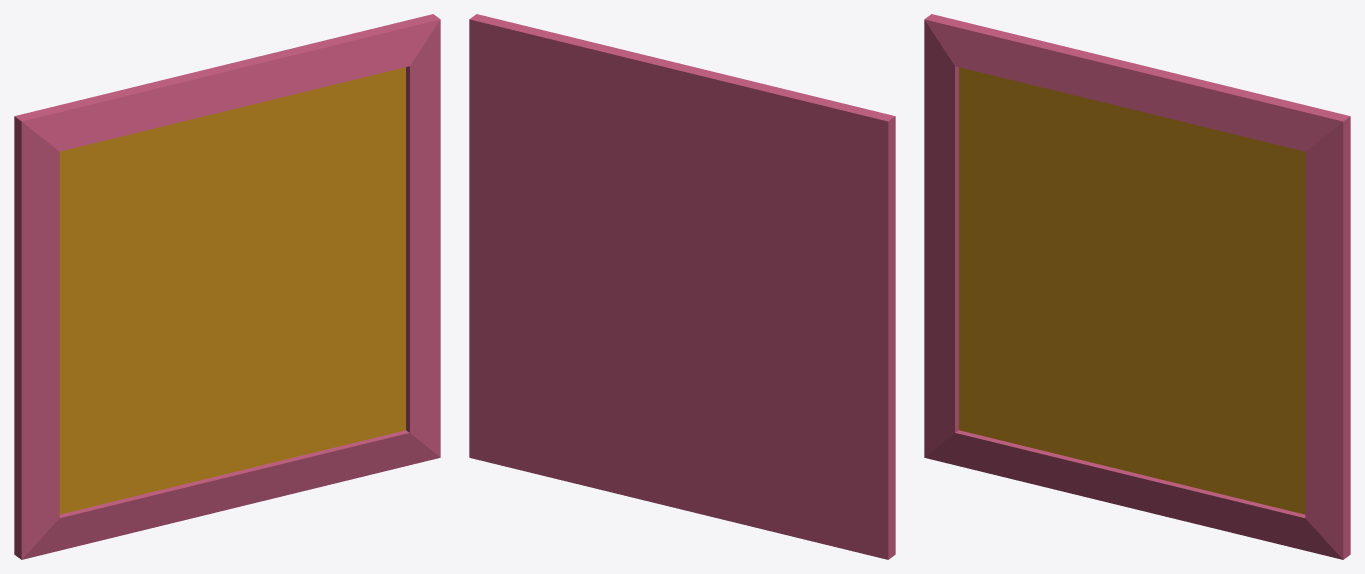
The model's file is Wall_Picture_Frame_glassless.fbx.
3 renders of one model, left to right at view 1: azimuth 30°, elevation 25°; view 2: azimuth 150°, elevation 25°; view 3: azimuth 330°, elevation 25°, orthographic.
Parts seen in each view (by area): view 1: picture, Frame; view 2: Frame; view 3: picture, Frame.
Part boxes in pixels (x1,y1,x2,y2): picture: (59,67,405,514); Frame: (14,14,440,559); Frame: (469,14,895,559); picture: (959,67,1305,514); Frame: (924,14,1350,559).
Bounding box in the file's own units: 200 × 200 × 8.99.
